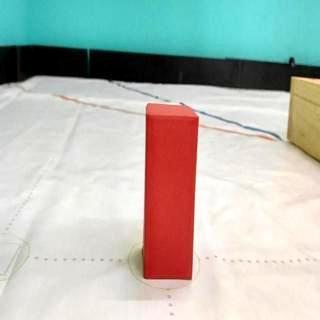redbox: (144, 103, 198, 279)
